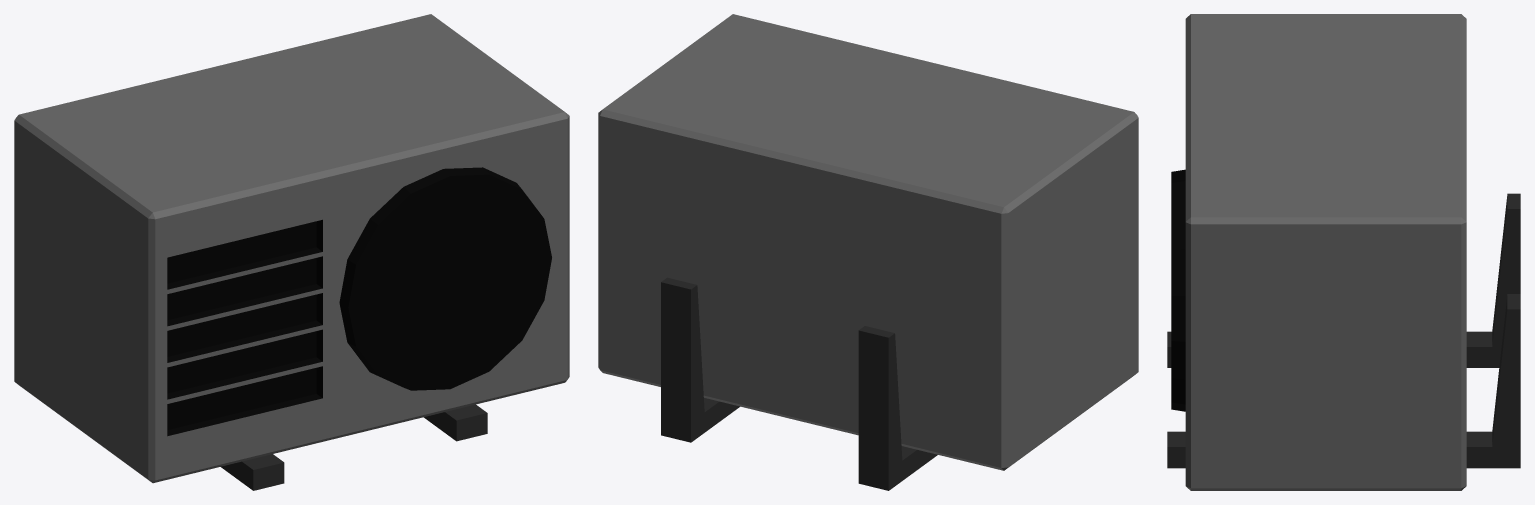
The model's file is Prop_RoofVent_09.fbx.
3 renders of one model, left to right at view 1: azimuth 30°, elevation 25°; view 2: azimuth 150°, elevation 25°; view 3: azimuth 270°, elevation 25°, orthographic. The views are drawn at different scales.
Visible parts, largest first — view 1: Prop_RoofVent_09; view 2: Prop_RoofVent_09; view 3: Prop_RoofVent_09.
Part boxes in pixels (<box>): Prop_RoofVent_09: <box>14,14,569,490</box>; Prop_RoofVent_09: <box>598,14,1138,490</box>; Prop_RoofVent_09: <box>1167,14,1520,490</box>.
Bounding box in the file's own units: 123 × 81.62 × 88.56.
